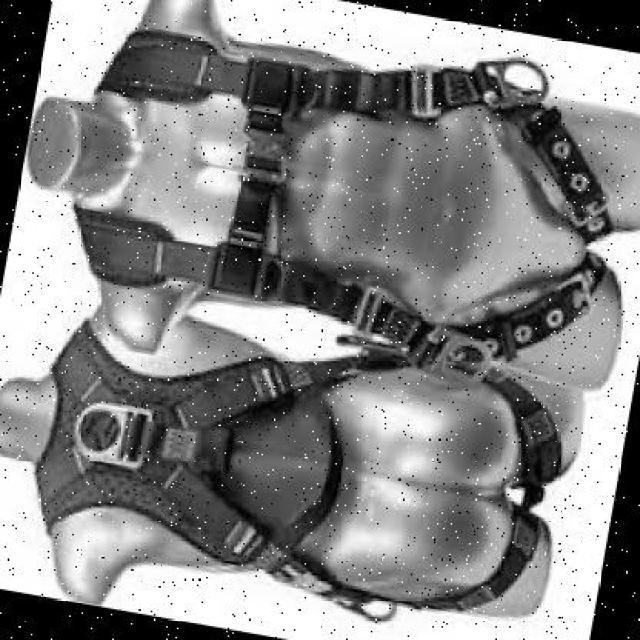Arnes_seguridad: (52, 0, 640, 405), (15, 314, 571, 640)
